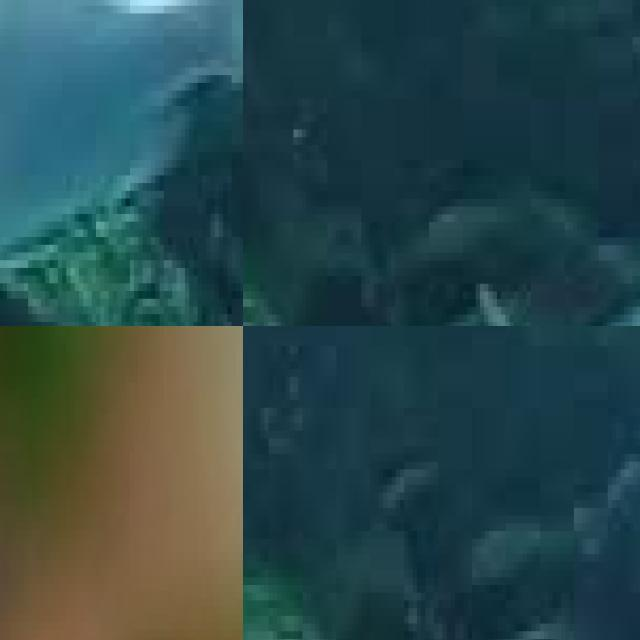fish: (0, 0, 243, 326), (467, 199, 640, 326)
